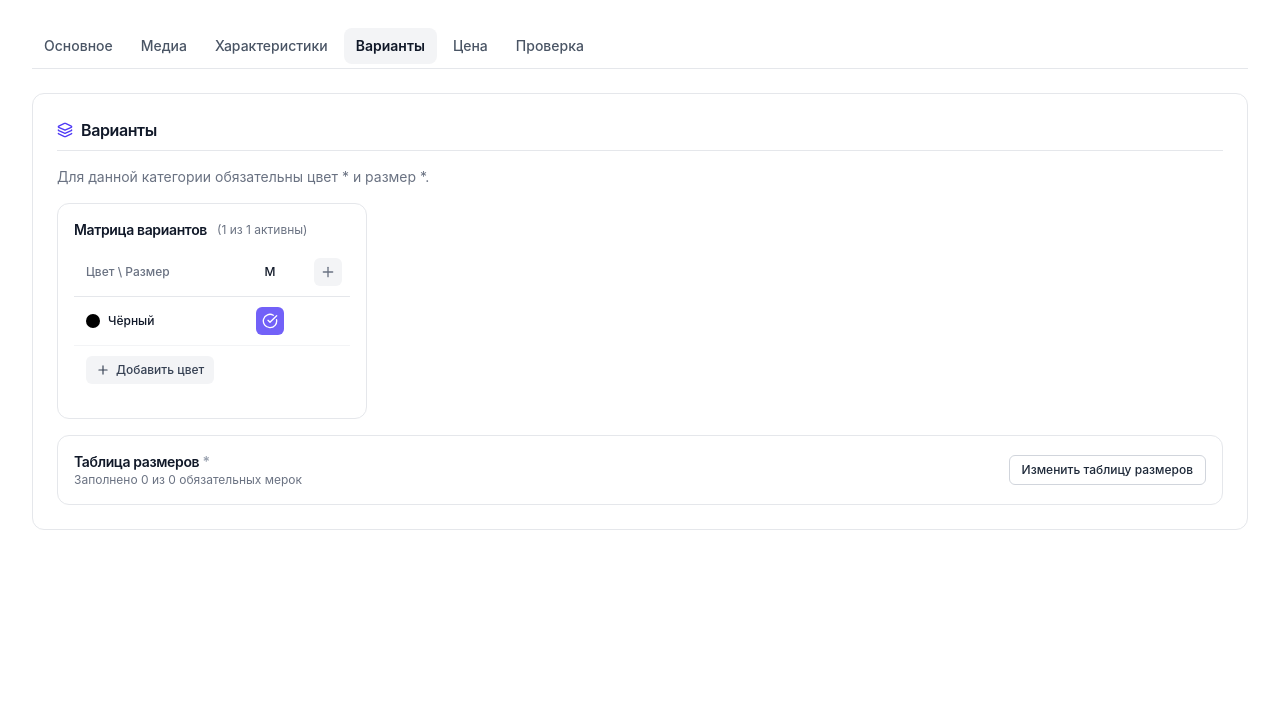
Test: ProductStudioFormWorkspace - Variant Editing Parity (PS.R4B3.1C4C3B3A) › 7. PS.R4B3.1C4C3B3B-R3A — Stable Matrix Geometry, Canonical Labels & Popover Exclusivity › 2. size headers and size popover display human-readable labels and never raw UUIDs
Expected: the column heading with test id "matrix-size-header-sz-m" reads "M", x1=264 y1=264 x2=276 y2=279
// Open Size Popover
Click the button with test id "matrix-add-size-btn" at (328, 272), box x1=314 y1=258 x2=342 y2=286
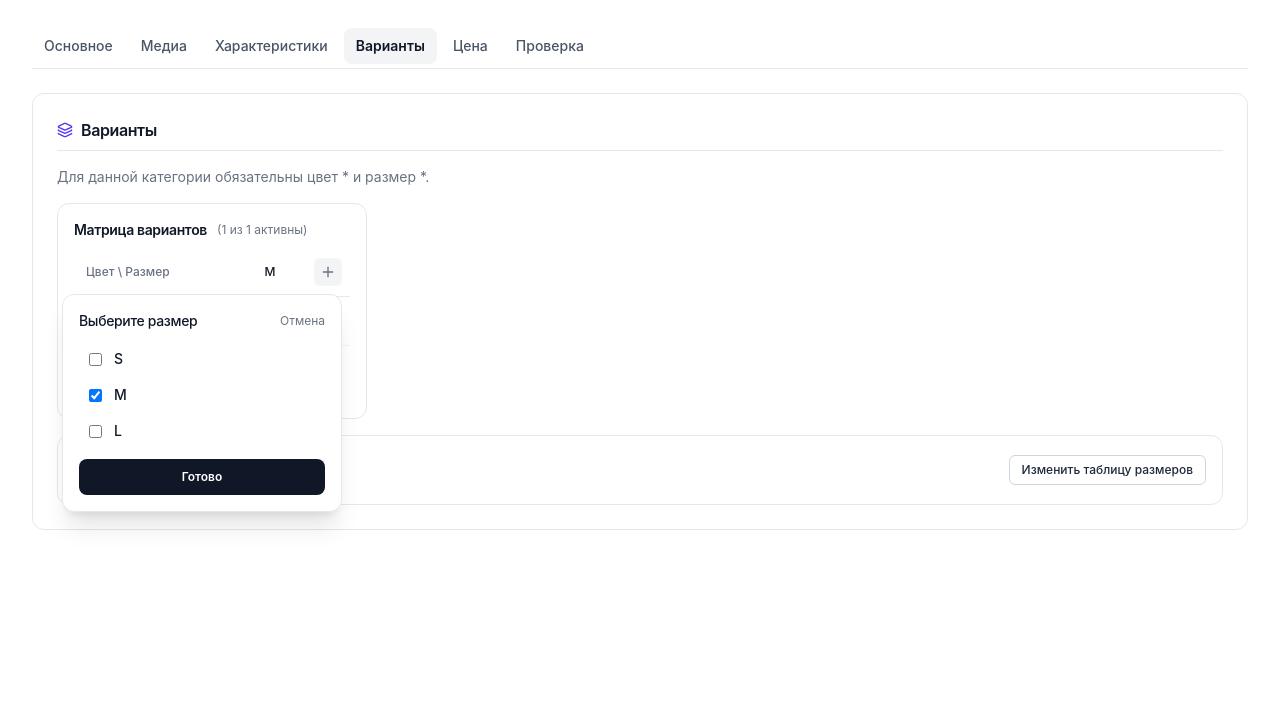
Now the element with test id "form-size-popover" is shown, box x1=62 y1=294 x2=342 y2=512
Now the label with test id "form-size-option-sz-s" reads "S", box x1=114 y1=350 x2=123 y2=367
Now the label with test id "form-size-option-sz-m" reads "M", box x1=114 y1=386 x2=127 y2=403
